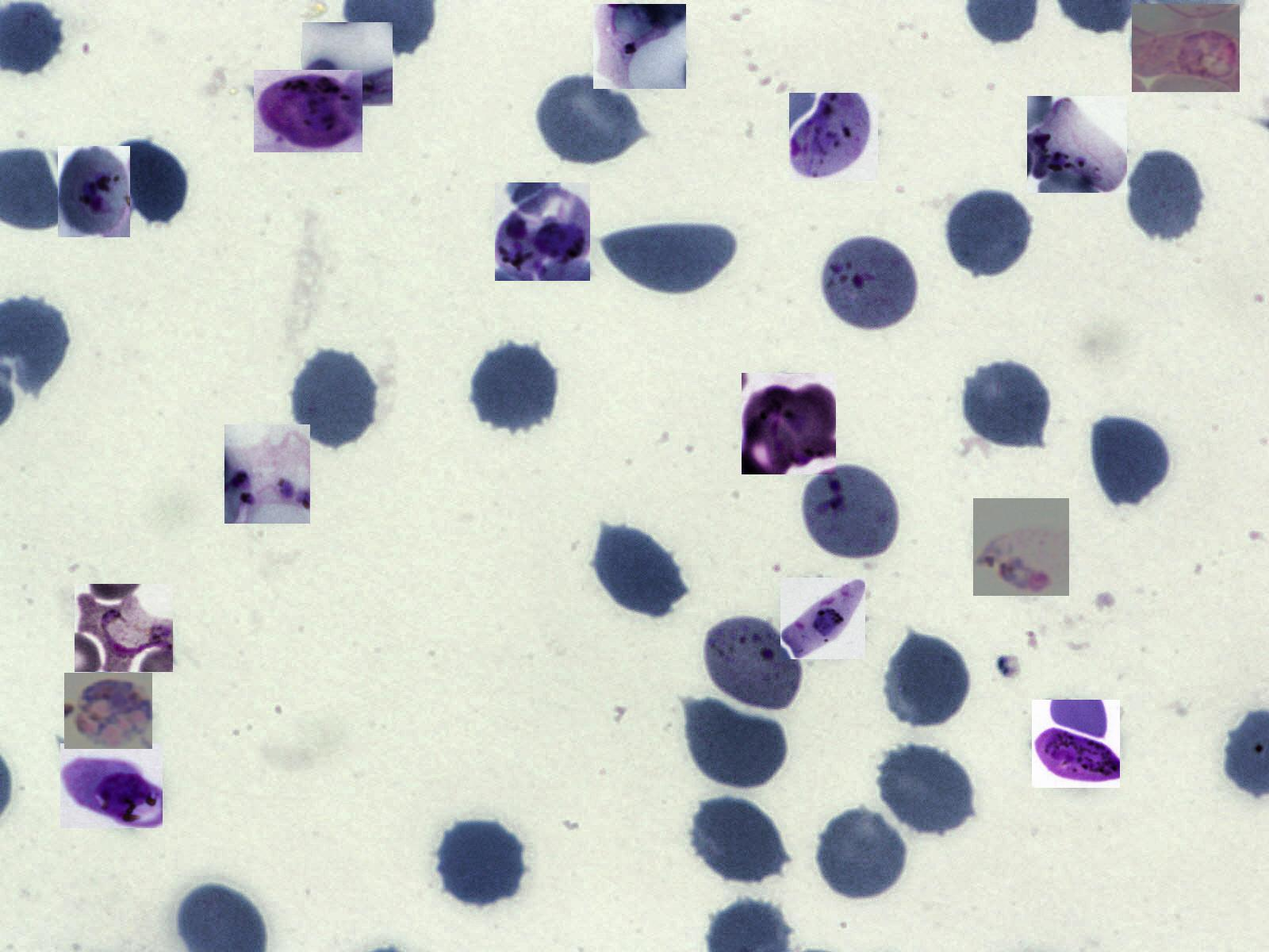Infected: (702, 612, 807, 712), (800, 462, 902, 562), (819, 234, 921, 333), (1027, 96, 1127, 193), (1132, 4, 1240, 92), (742, 373, 836, 474), (973, 498, 1069, 596), (495, 182, 590, 281), (254, 70, 362, 152), (60, 743, 163, 828), (75, 584, 173, 672), (224, 424, 310, 524), (594, 4, 687, 89), (789, 93, 878, 181), (1032, 700, 1120, 788), (303, 22, 393, 106), (780, 578, 865, 659), (64, 673, 152, 749), (58, 146, 130, 237)
Uninfected: (599, 221, 738, 296), (537, 72, 646, 167), (875, 740, 976, 839), (687, 700, 791, 792), (814, 804, 909, 904), (289, 347, 379, 451), (884, 631, 973, 731), (688, 793, 784, 885), (960, 359, 1053, 450), (470, 340, 560, 433), (944, 186, 1034, 279), (1125, 145, 1206, 244), (1089, 412, 1172, 507), (437, 818, 526, 905), (600, 535, 691, 619), (119, 144, 194, 225)
